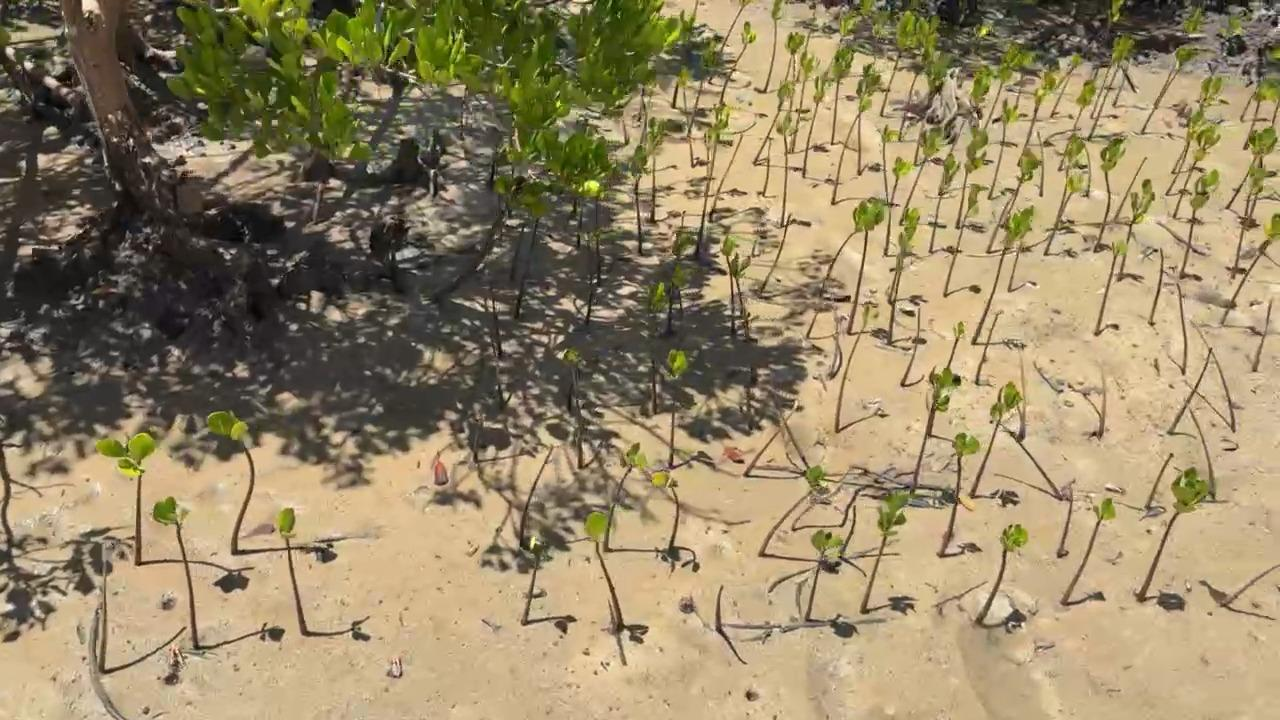Tree: (1136, 468, 1211, 602), (95, 433, 160, 565), (970, 207, 1030, 342), (153, 497, 200, 649), (206, 411, 255, 556), (910, 367, 964, 495), (1220, 214, 1280, 325), (758, 467, 828, 556), (969, 382, 1023, 497), (1060, 497, 1116, 606), (818, 202, 884, 294), (861, 491, 909, 614), (845, 200, 888, 330), (834, 307, 878, 433), (1152, 8, 1206, 110), (899, 14, 942, 139), (1138, 43, 1195, 137), (937, 432, 979, 558), (976, 524, 1028, 623), (898, 126, 949, 224), (1191, 321, 1236, 432), (1230, 164, 1277, 270), (601, 443, 647, 551), (913, 53, 956, 167), (941, 184, 985, 295), (1172, 124, 1223, 219), (1087, 38, 1135, 138), (1222, 126, 1278, 211), (1177, 169, 1220, 279), (879, 11, 923, 118), (829, 99, 875, 201), (1000, 425, 1063, 498), (586, 512, 624, 626), (516, 196, 550, 317), (743, 403, 797, 477), (276, 508, 307, 636), (949, 68, 994, 156), (1168, 348, 1213, 435), (1118, 178, 1157, 277), (855, 65, 888, 181), (802, 530, 843, 621), (1043, 173, 1086, 256), (519, 445, 555, 542), (886, 206, 922, 303), (1165, 113, 1207, 196), (666, 232, 700, 333), (955, 133, 991, 228), (1018, 73, 1056, 163), (800, 74, 833, 177), (1094, 137, 1125, 246), (755, 81, 795, 165), (885, 234, 916, 342), (982, 44, 1021, 129), (1183, 400, 1216, 498), (986, 99, 1018, 200), (883, 158, 917, 253), (1094, 239, 1127, 335), (928, 152, 960, 251), (643, 282, 667, 411), (791, 51, 821, 153), (693, 136, 718, 257), (710, 132, 745, 218), (561, 351, 587, 466), (827, 46, 857, 144), (721, 21, 756, 104), (664, 351, 688, 467), (1242, 51, 1280, 124), (757, 214, 791, 295), (774, 115, 799, 223), (687, 47, 718, 133), (1221, 564, 1280, 609), (1008, 204, 1037, 295), (1242, 81, 1277, 151), (519, 537, 546, 627), (1247, 139, 1277, 220), (720, 236, 743, 340), (1113, 157, 1149, 221), (1058, 137, 1089, 209), (652, 471, 680, 550), (1008, 148, 1040, 217), (1053, 53, 1086, 119), (1171, 110, 1206, 172), (646, 118, 666, 222), (728, 253, 752, 338), (763, 0, 785, 90), (974, 311, 1001, 383), (95, 543, 110, 670), (1143, 453, 1176, 510), (486, 261, 504, 357), (583, 229, 601, 324), (678, 67, 695, 166), (718, 0, 751, 50), (709, 101, 729, 177), (901, 309, 920, 386), (1012, 53, 1036, 112), (1252, 298, 1271, 372), (1090, 60, 1114, 117), (878, 124, 895, 203), (595, 196, 609, 286), (870, 0, 889, 66), (1149, 248, 1164, 324), (1196, 72, 1223, 114), (671, 269, 691, 324), (1176, 283, 1188, 374), (787, 33, 806, 88), (839, 505, 858, 558), (946, 322, 966, 371), (1060, 488, 1075, 551), (1019, 356, 1029, 441), (1113, 60, 1131, 106), (633, 176, 643, 256), (838, 13, 860, 47), (761, 135, 772, 199), (713, 584, 725, 632), (1098, 369, 1106, 437), (1038, 129, 1045, 196), (784, 55, 793, 87), (806, 316, 817, 337), (1272, 102, 1280, 126)
